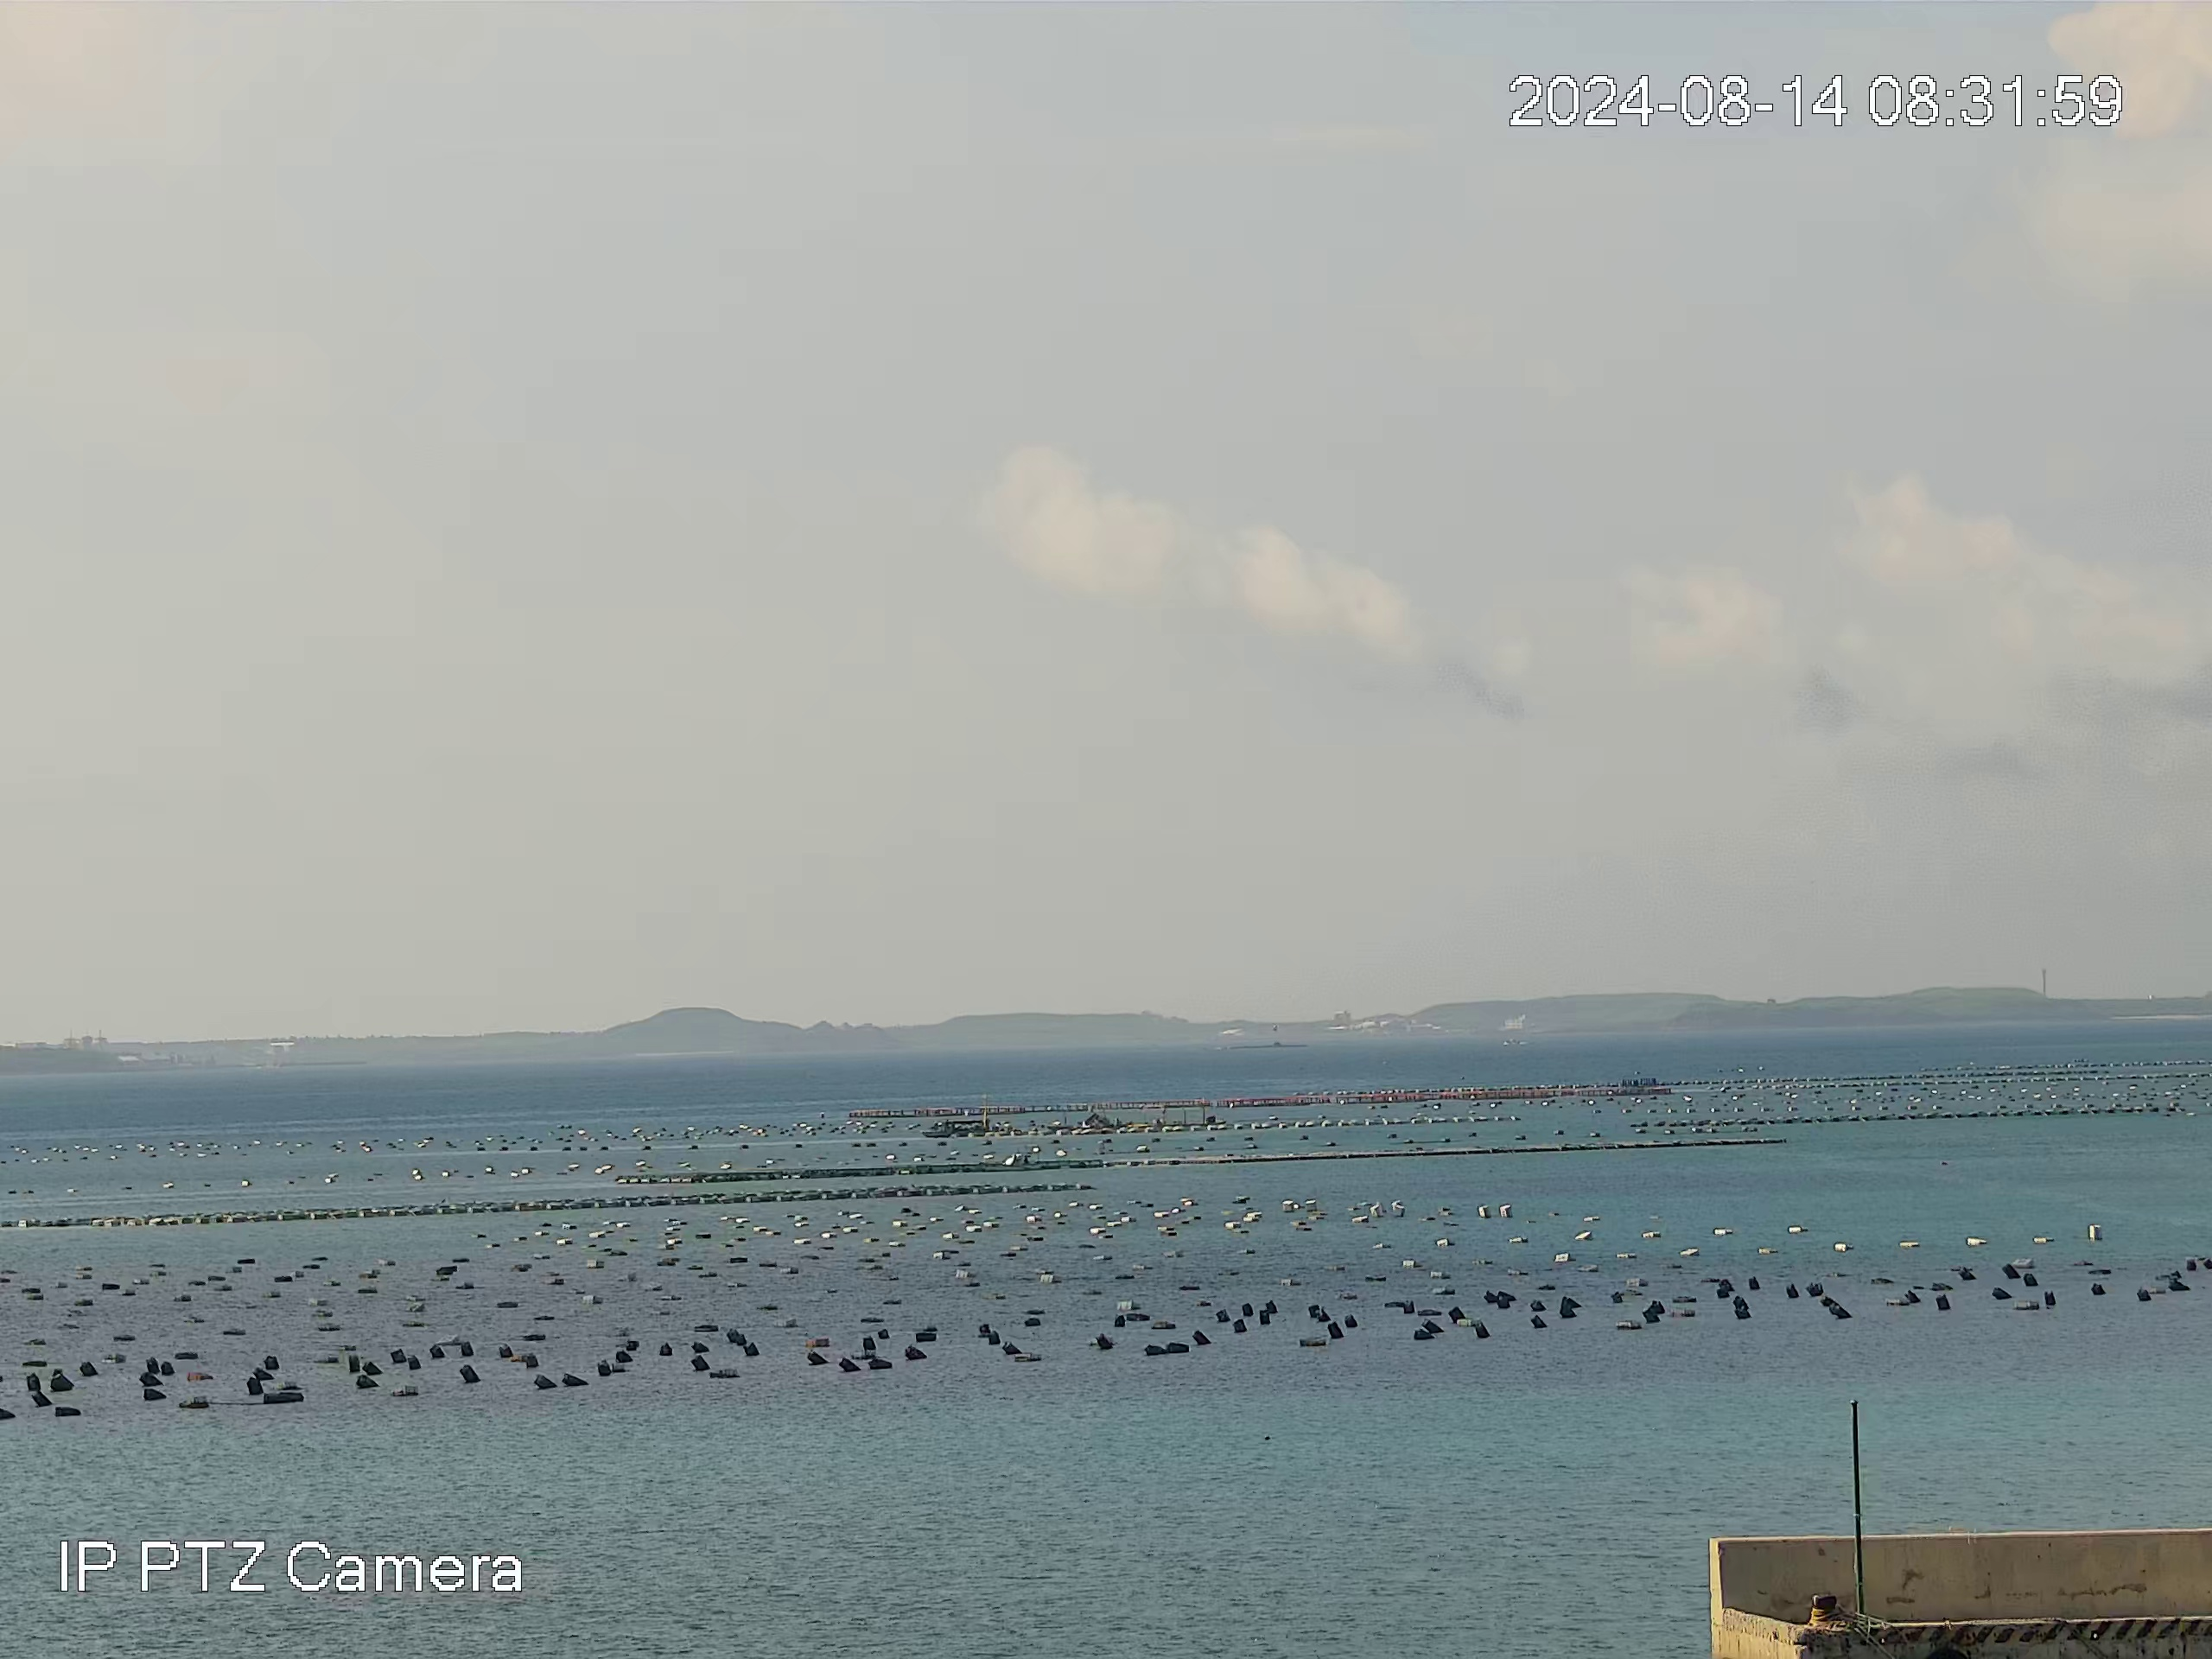boat: (920, 1117, 991, 1138)
